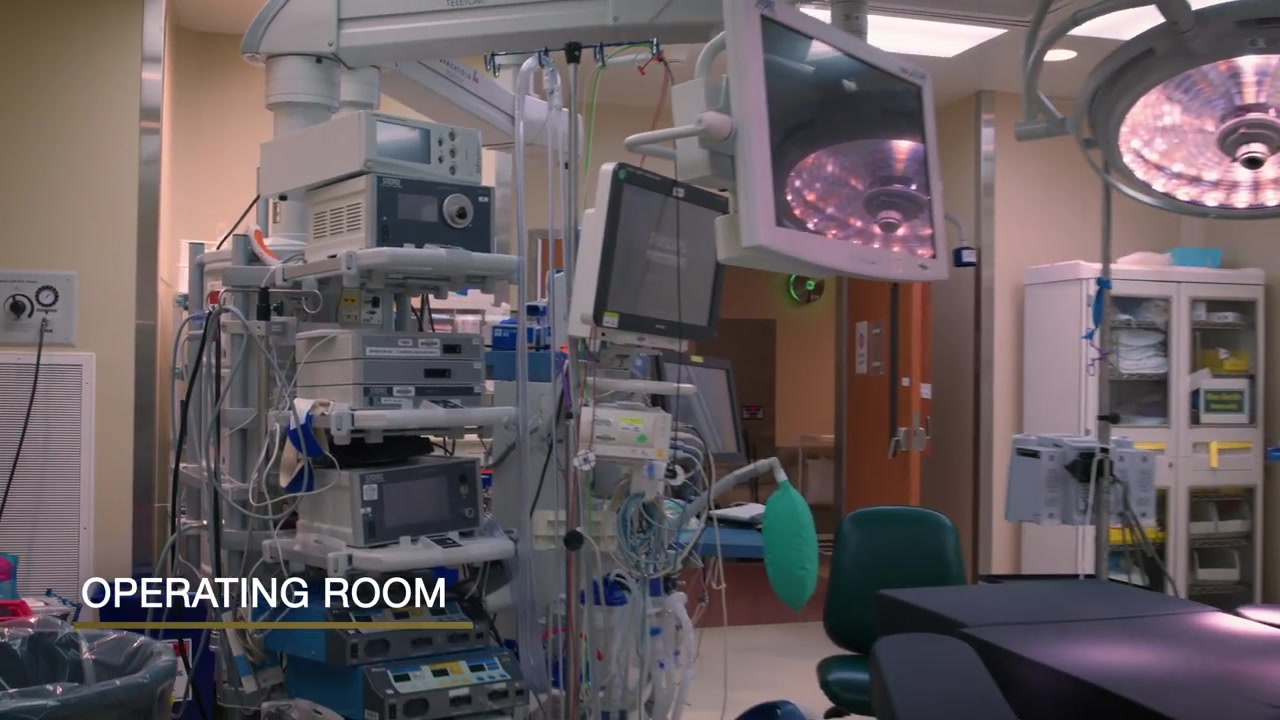bedside_monitor: (741, 13, 941, 277), (592, 166, 730, 339)
cabinet: (1015, 260, 1262, 607)
chair: (819, 505, 965, 720)
computer: (658, 355, 740, 458)
door_handle: (917, 414, 939, 459), (887, 416, 909, 461)
electrosurgical_unit: (254, 585, 492, 668), (268, 649, 530, 720)
iv_pole: (477, 37, 672, 720), (217, 284, 326, 535)
operating_bed: (871, 577, 1278, 720)
surgical_light: (1072, 1, 1280, 220)
waste_bin: (1, 627, 174, 720)
